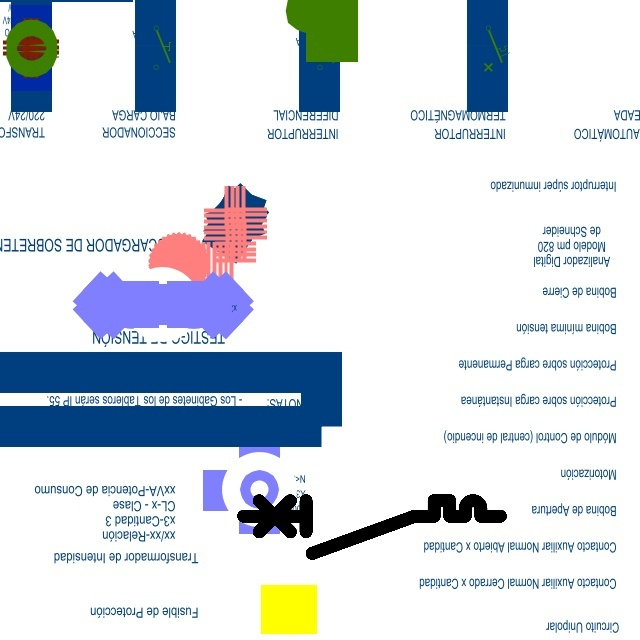interruptor_termomagnetico: (237, 494, 507, 560)
